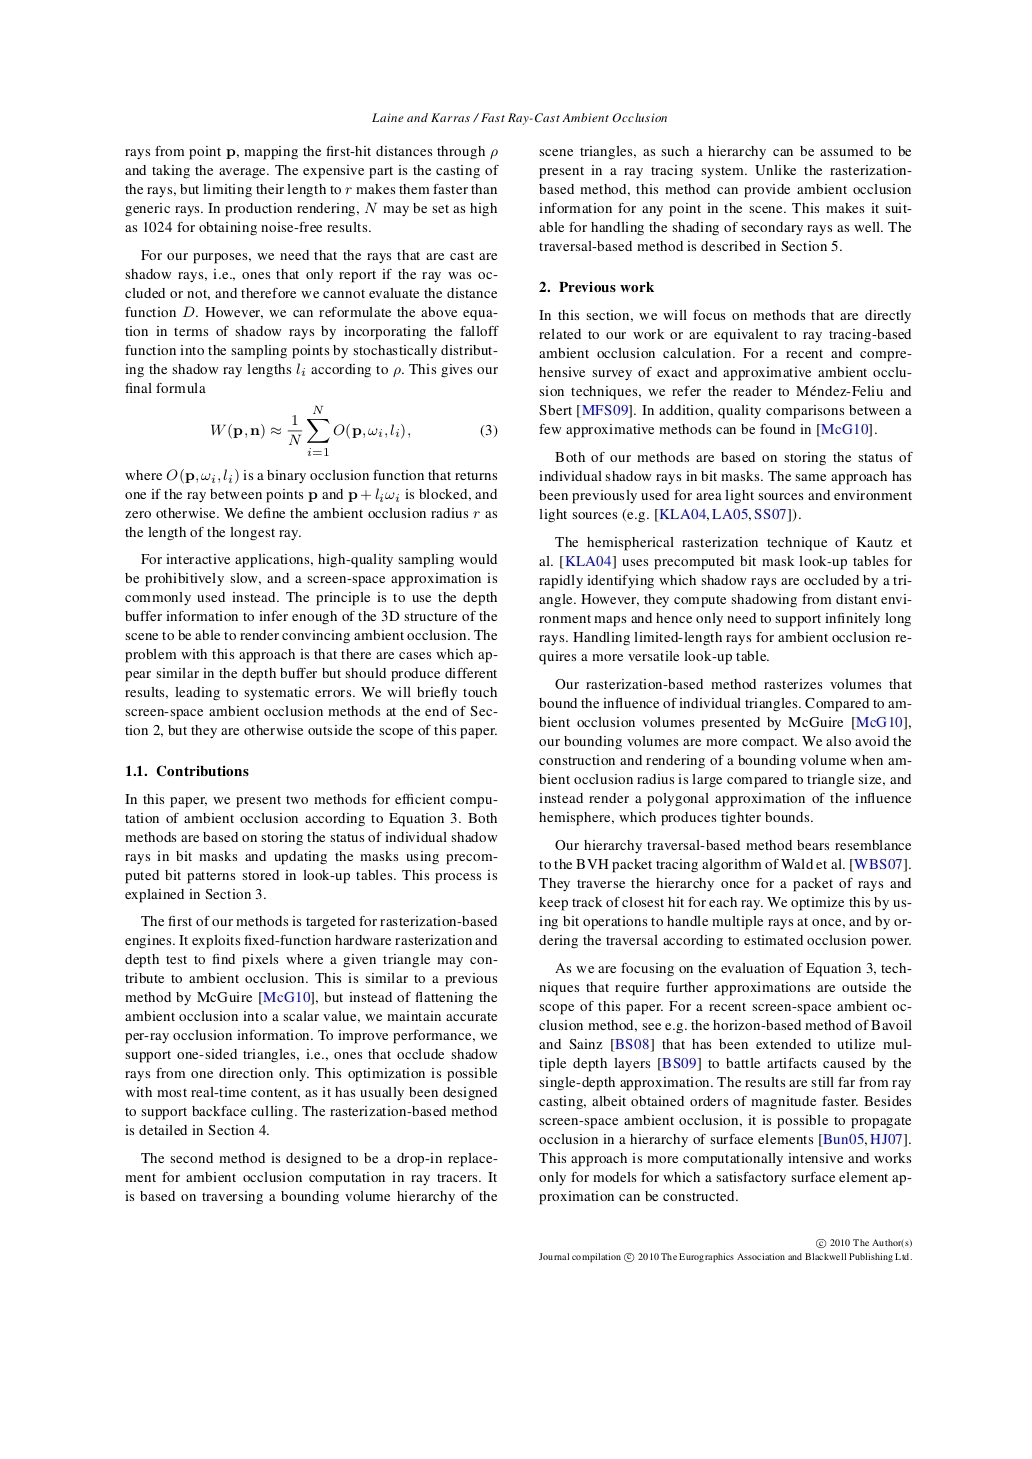formula: (211, 405, 497, 455)
